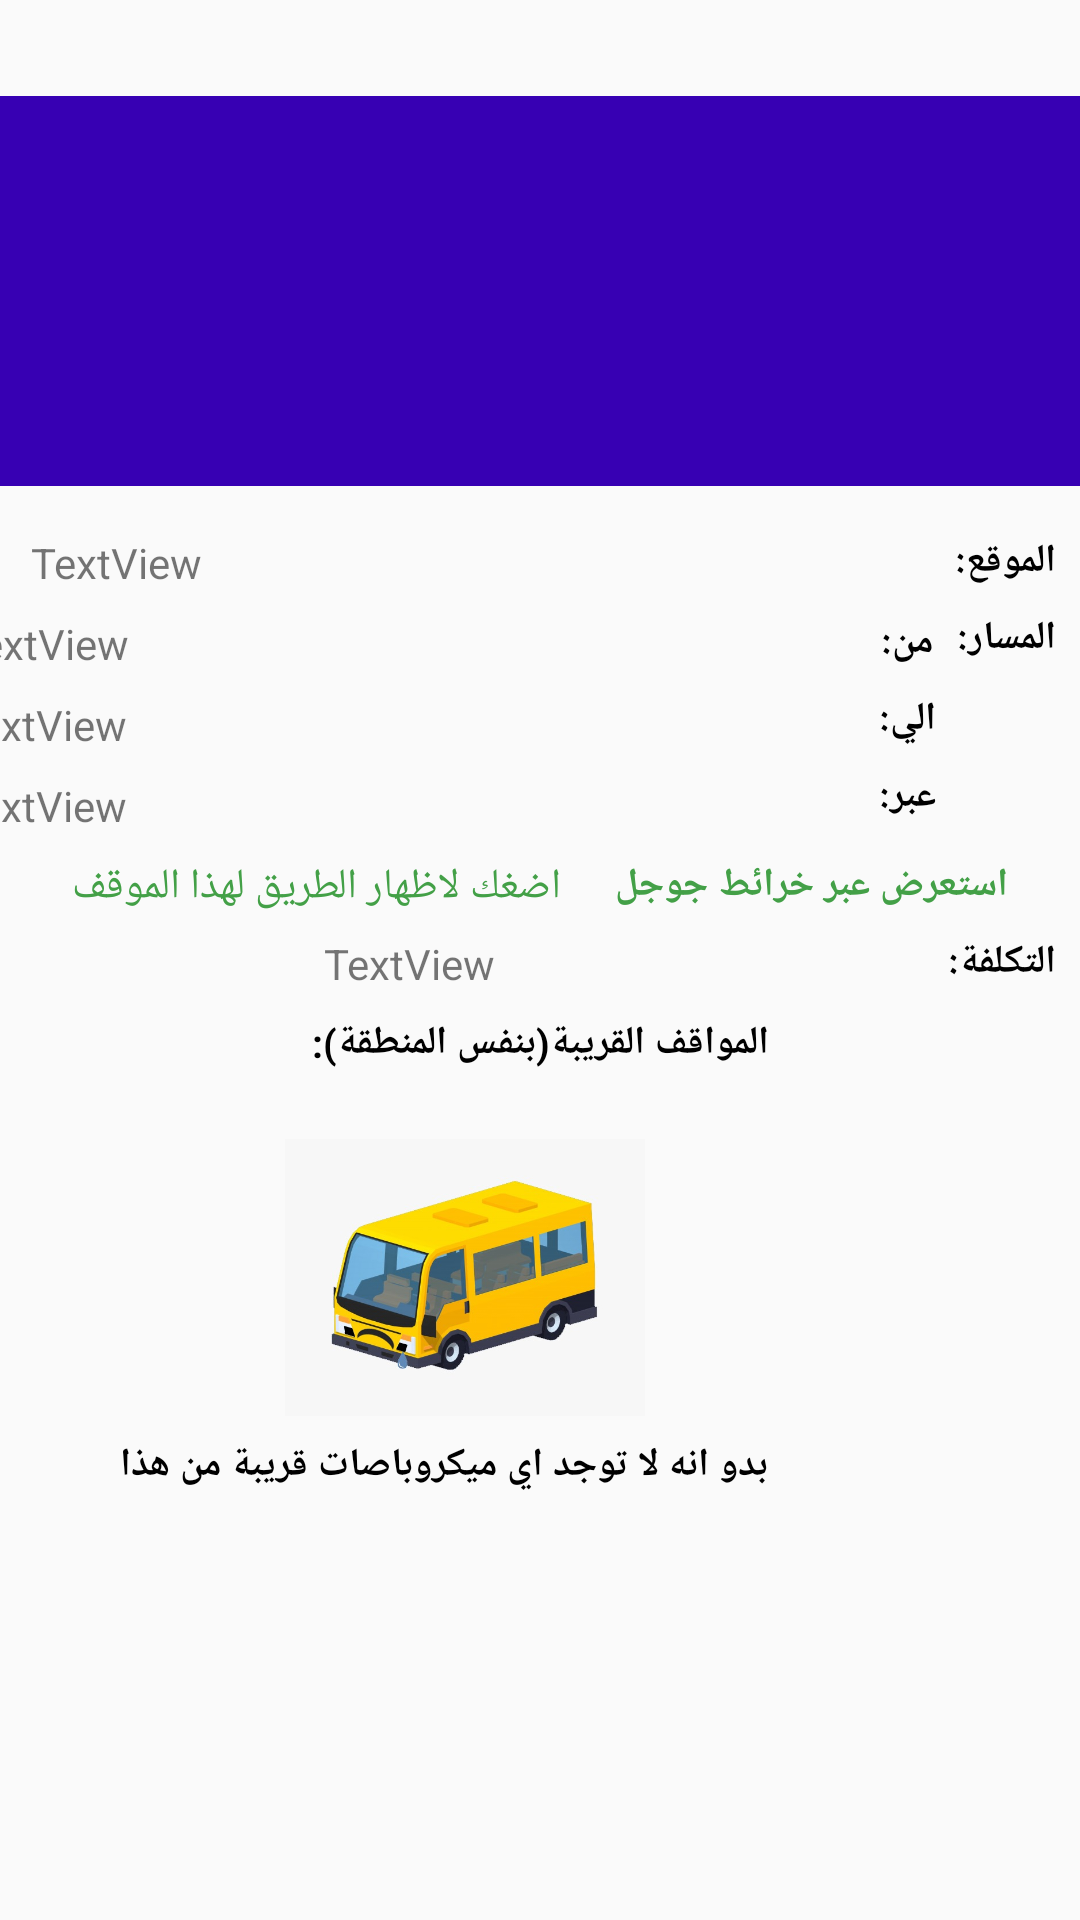

Locate icon controls on the screen. Image size 1080px x 1920px, boxes as (x1, y1, x2, y2).
sad bus: (331, 1181, 597, 1370)
